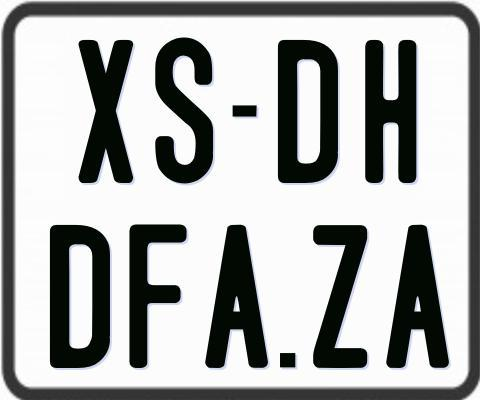A: (205, 223, 272, 370), (386, 223, 452, 369)
D: (278, 39, 344, 182), (47, 224, 109, 369)
F: (129, 222, 187, 372)
H: (363, 37, 414, 182)
S: (153, 36, 211, 184)
X: (78, 38, 136, 181)
Z: (311, 224, 368, 370)
